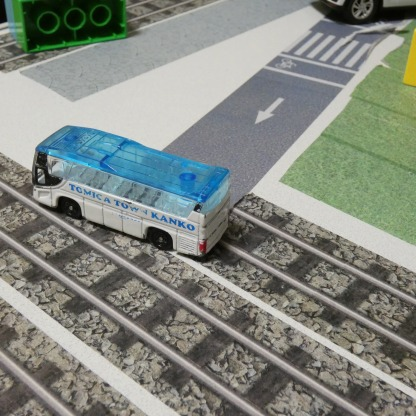car: (31, 124, 233, 269), (312, 0, 415, 26)
